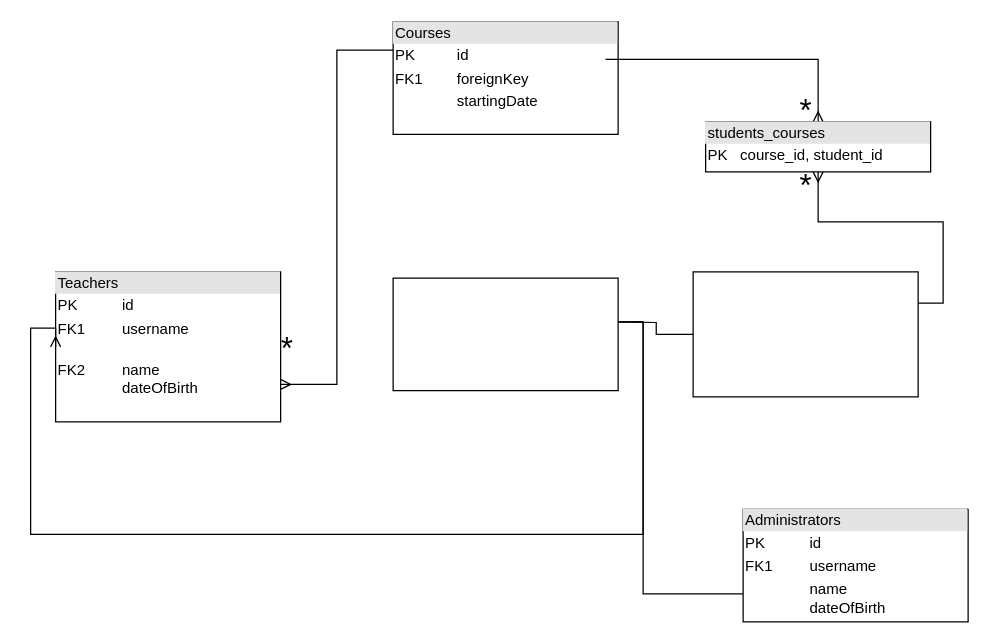
Image size: 990x644. Some labels were removed from this diagram. The shapes that lost their labels are listed below. From the top down, each one's box as (x1, y1, x2, y2) in pixels, then its label:
(392, 277, 618, 391): Tablename PK uniqueId FK1 foreignKey fieldname
(692, 271, 918, 397): Students PK id FK1 username name dateOfBirth studyYear
